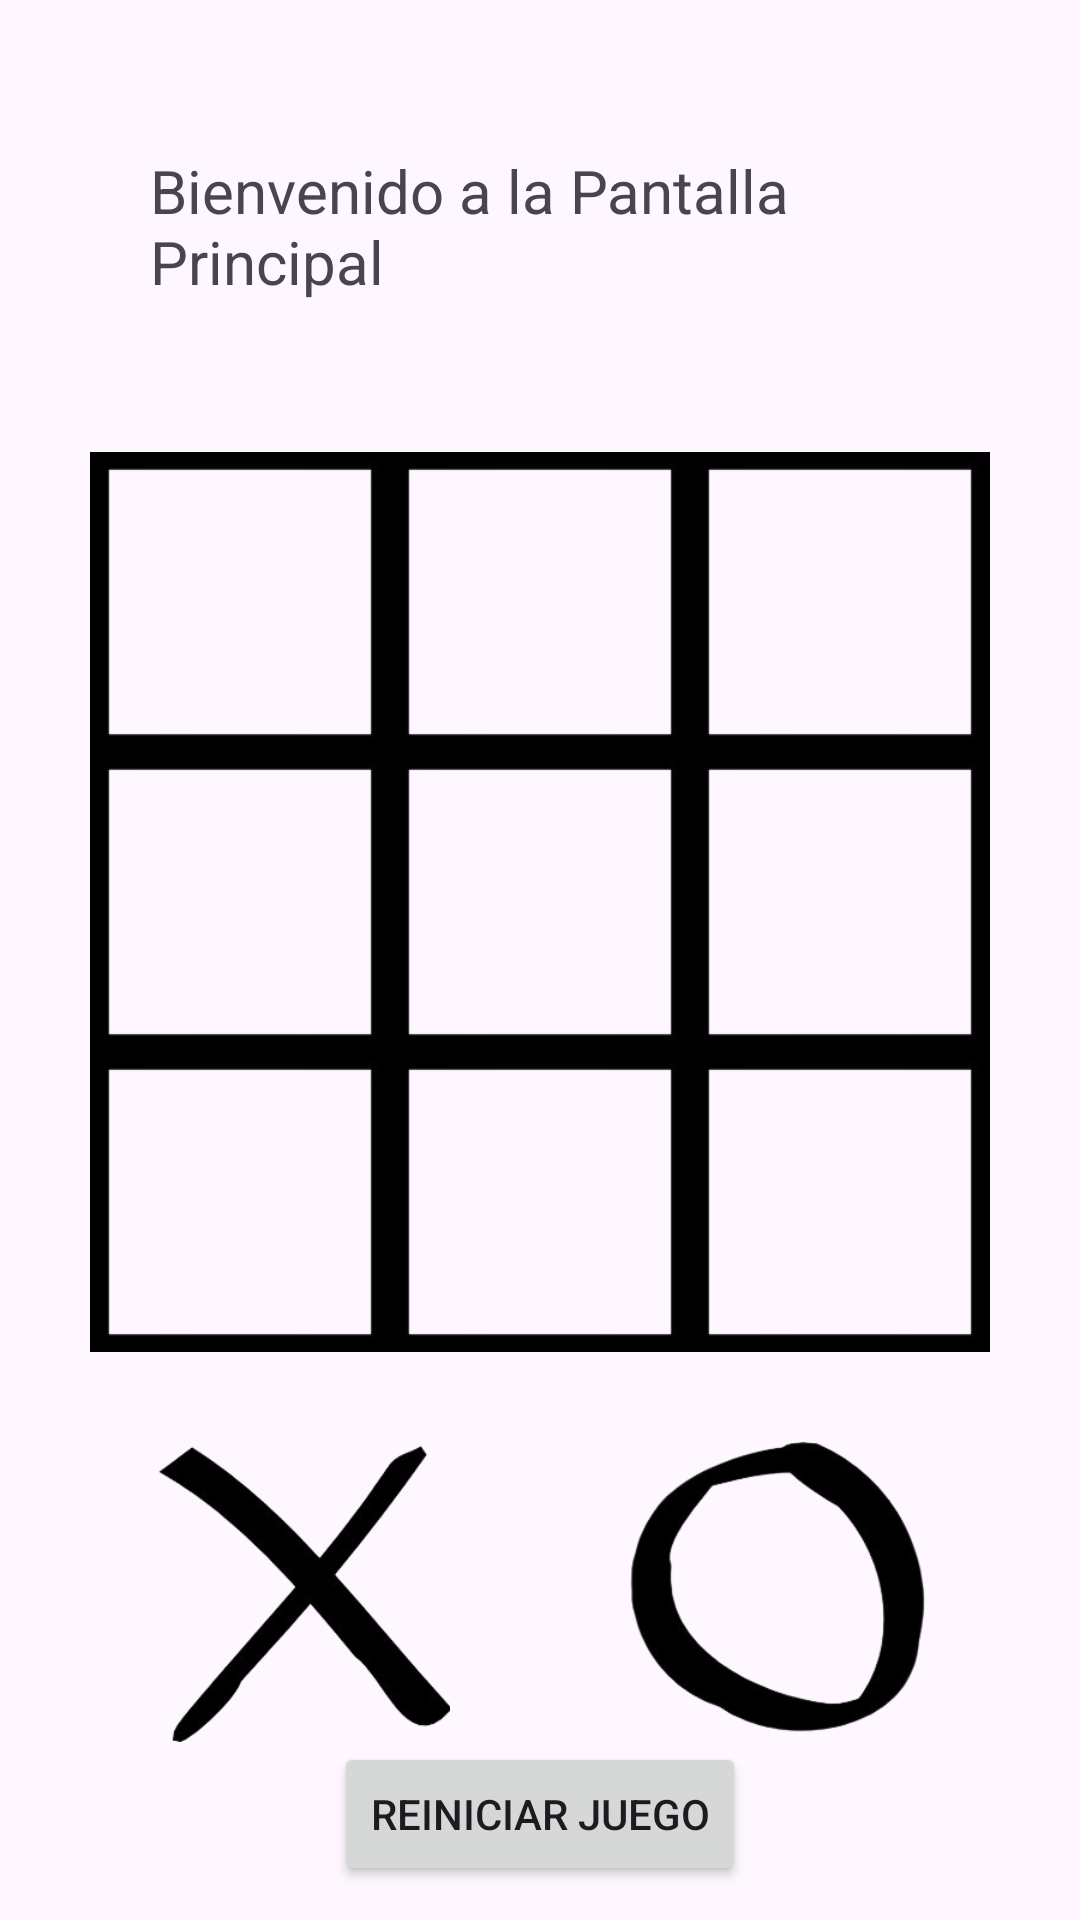

Point at icon controls on the screen. Image size 1080x1920, points as (x,y).
circulo: (778,1587)
equis: (304,1594)
